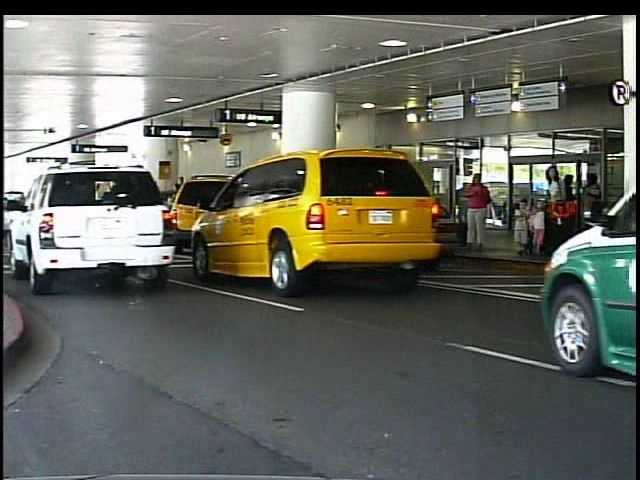person: (545, 163, 571, 263), (466, 169, 493, 255), (585, 171, 609, 240), (562, 173, 582, 243), (518, 198, 538, 254), (533, 202, 550, 255)
